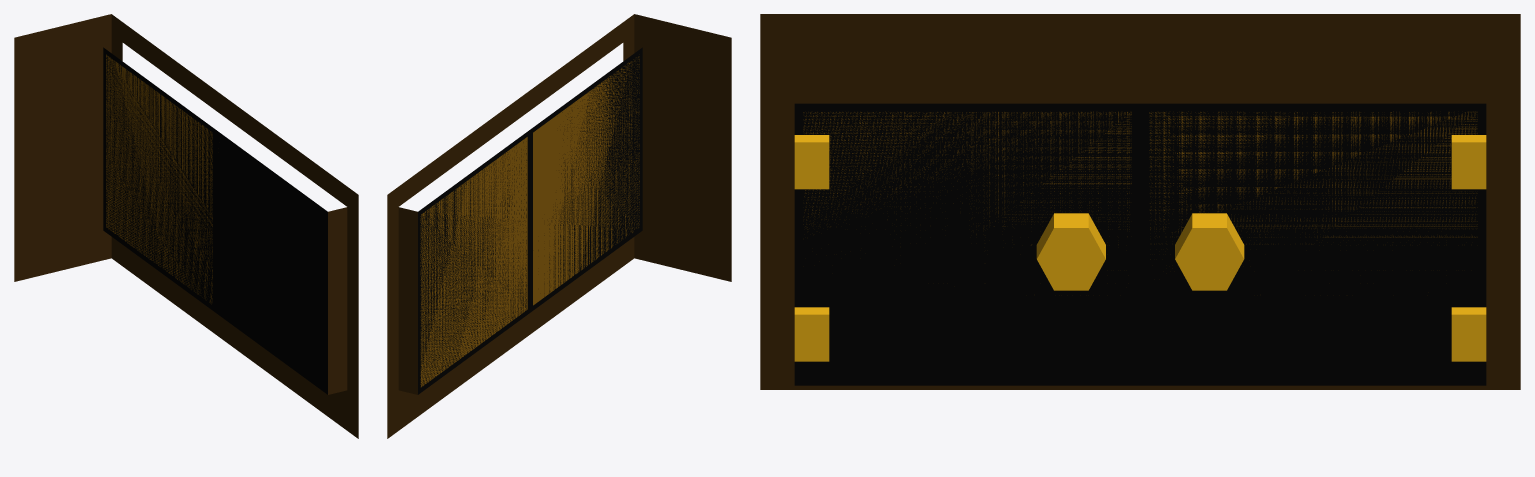
File: obj_cupboard_6_0.obj
3 views of the same model, side by side, from view 1: azimuth 30°, elevation 25°; view 2: azimuth 150°, elevation 25°; view 3: azimuth 270°, elevation 25° (orthographic). The views are drawn at different scales.
Size of the model in its own units: 0.3125 by 0.75 by 1.38.
